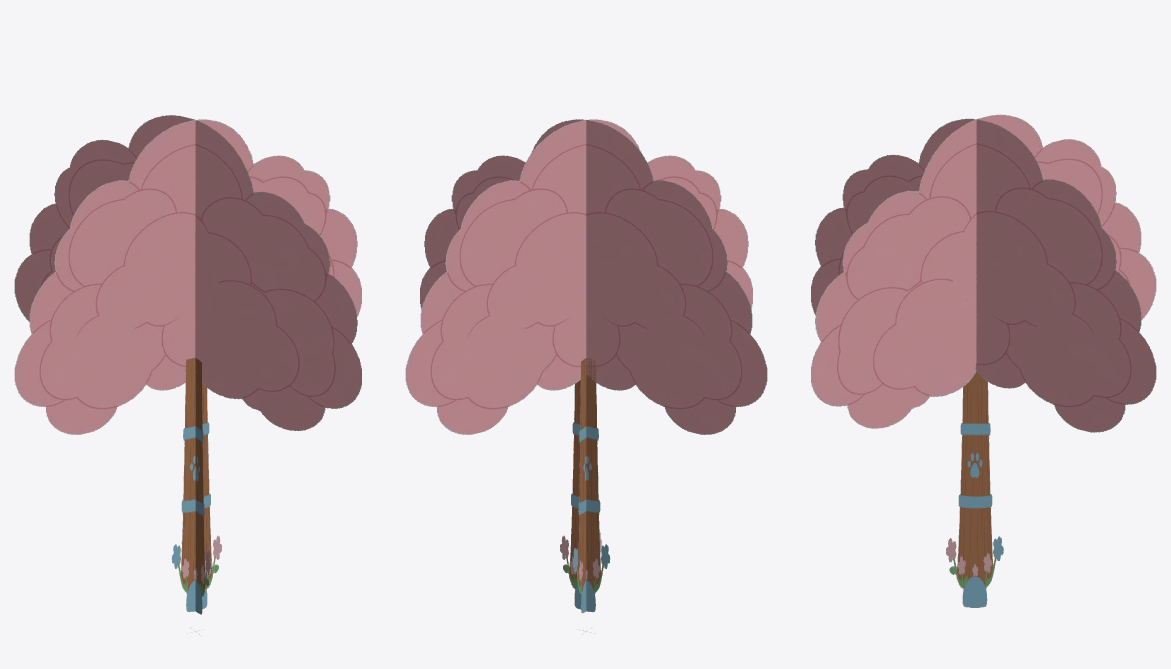
The model's file is nyanisyarud-tree-pink.glb.
The picture shows the model from 3 angles, left to right: view 1: azimuth 30°, elevation 25°; view 2: azimuth 150°, elevation 25°; view 3: azimuth 270°, elevation 25°; orthographic projection.
Size of the model in its own units: 1.8 by 2.51 by 1.56.
2 materials, 2 textured.
